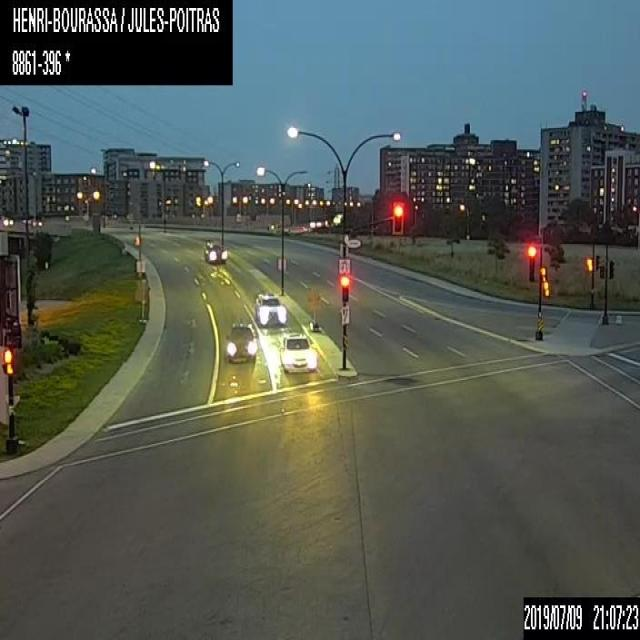vehicle: (278, 331, 316, 373), (224, 321, 253, 360), (253, 292, 286, 325), (202, 240, 227, 263)
